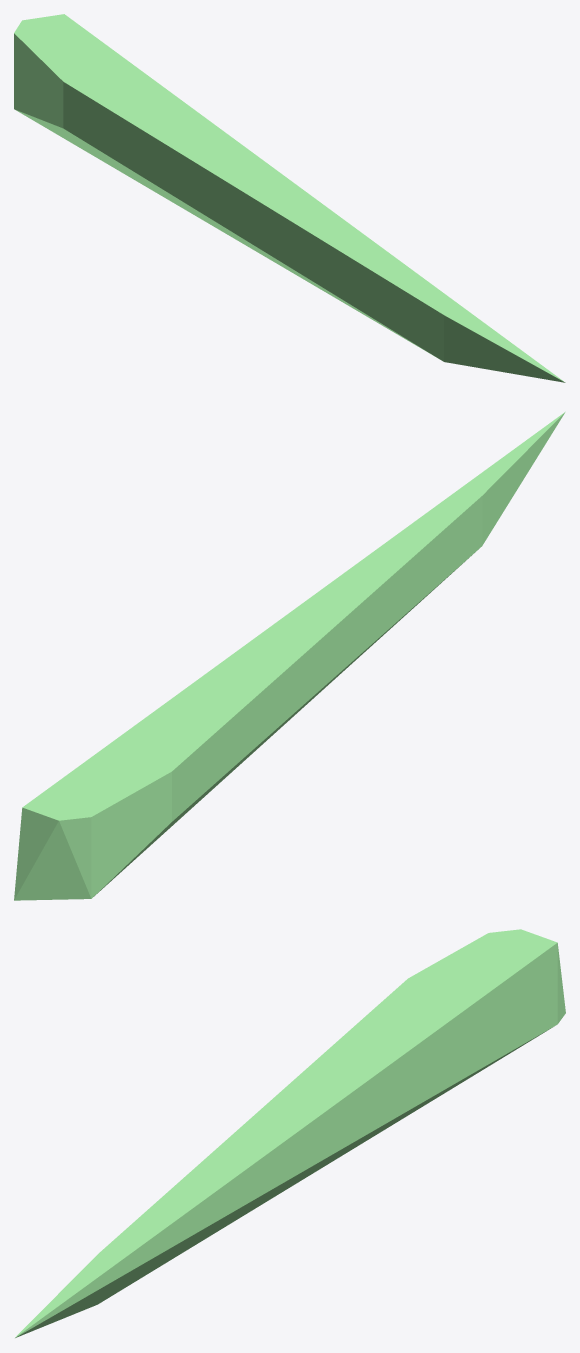
Rendered from dvkr_robot_Lp11_respondable_PSM2_coll_6.dae.
The picture shows the model from 3 angles, top to bottom: view 1: azimuth 30°, elevation 25°; view 2: azimuth 150°, elevation 25°; view 3: azimuth 330°, elevation 25°; orthographic projection. The views are drawn at different scales.
Parts seen in each view (by area): view 1: Node_0000023514CD8970; view 2: Node_0000023514CD8970; view 3: Node_0000023514CD8970.
Part boxes in pixels (left/top/right/bottom): Node_0000023514CD8970: left=14, top=14, right=565, bottom=382; Node_0000023514CD8970: left=14, top=411, right=565, bottom=900; Node_0000023514CD8970: left=15, top=929, right=565, bottom=1337.
Size of the model in its own units: 0.0125 by 0.013 by 0.1598.
